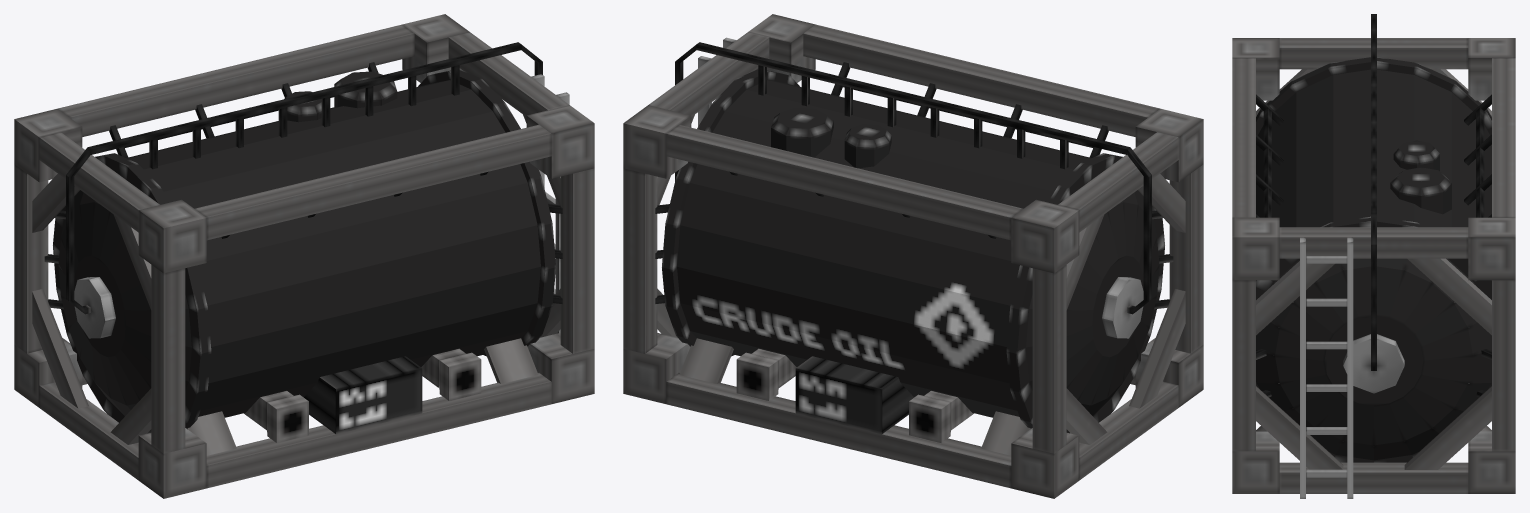
Rendered from tank_crude_oil.obj.
The picture shows the model from 3 angles, left to right: view 1: azimuth 30°, elevation 25°; view 2: azimuth 150°, elevation 25°; view 3: azimuth 270°, elevation 25°; orthographic projection. The views are drawn at different scales.
Parts seen in each view (by area): view 1: Frame; view 2: Frame; view 3: Frame.
Boxes of the visible parts, x1,y1,x2,y2 form: Frame: [14, 14, 594, 498]; Frame: [623, 14, 1203, 498]; Frame: [1232, 14, 1515, 498].
Size of the model in its own units: 5.5 by 3.28 by 3.
